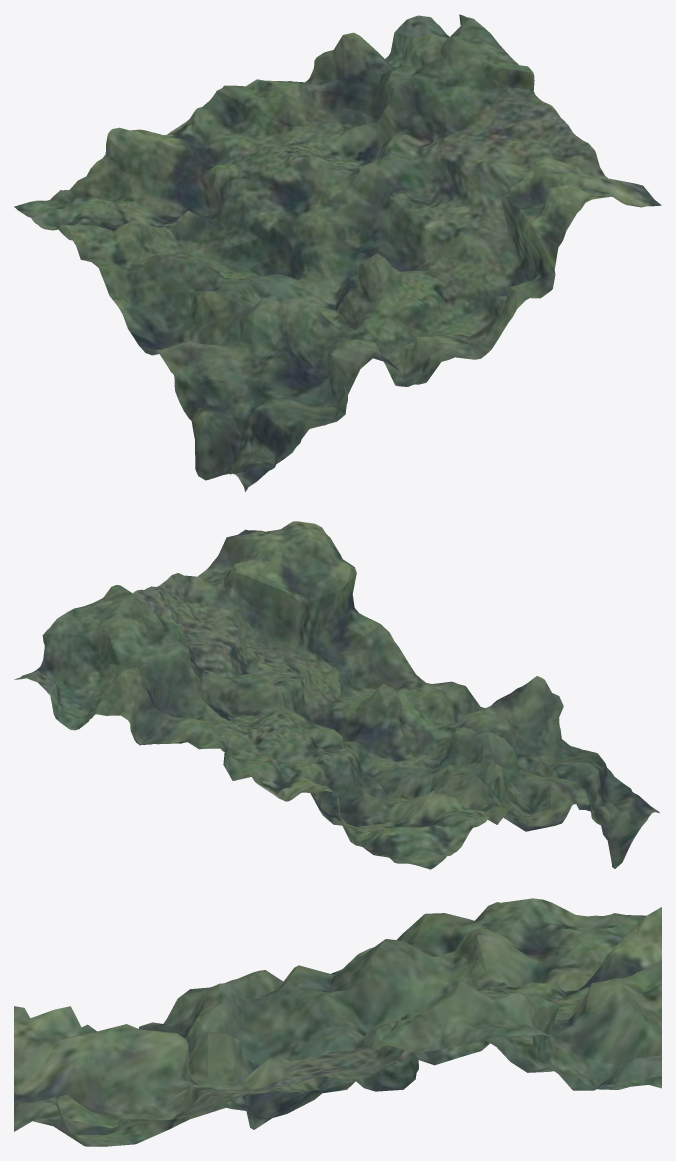
Rendered from Tile__005__001_L21_0001310.glb.
3 renders of one model, top to bottom at view 1: azimuth 30°, elevation 25°; view 2: azimuth 150°, elevation 25°; view 3: azimuth 270°, elevation 25°, orthographic. The views are drawn at different scales.
Parts seen in each view (by area): view 1: root; view 2: root; view 3: root.
Boxes of the visible parts, left/top/right/bottom form: root: left=14, top=14, right=661, bottom=491; root: left=14, top=521, right=659, bottom=869; root: left=14, top=898, right=661, bottom=1146.
Size of the model in its own units: 13.13 by 8.03 by 12.63.
1 material, 1 textured.
